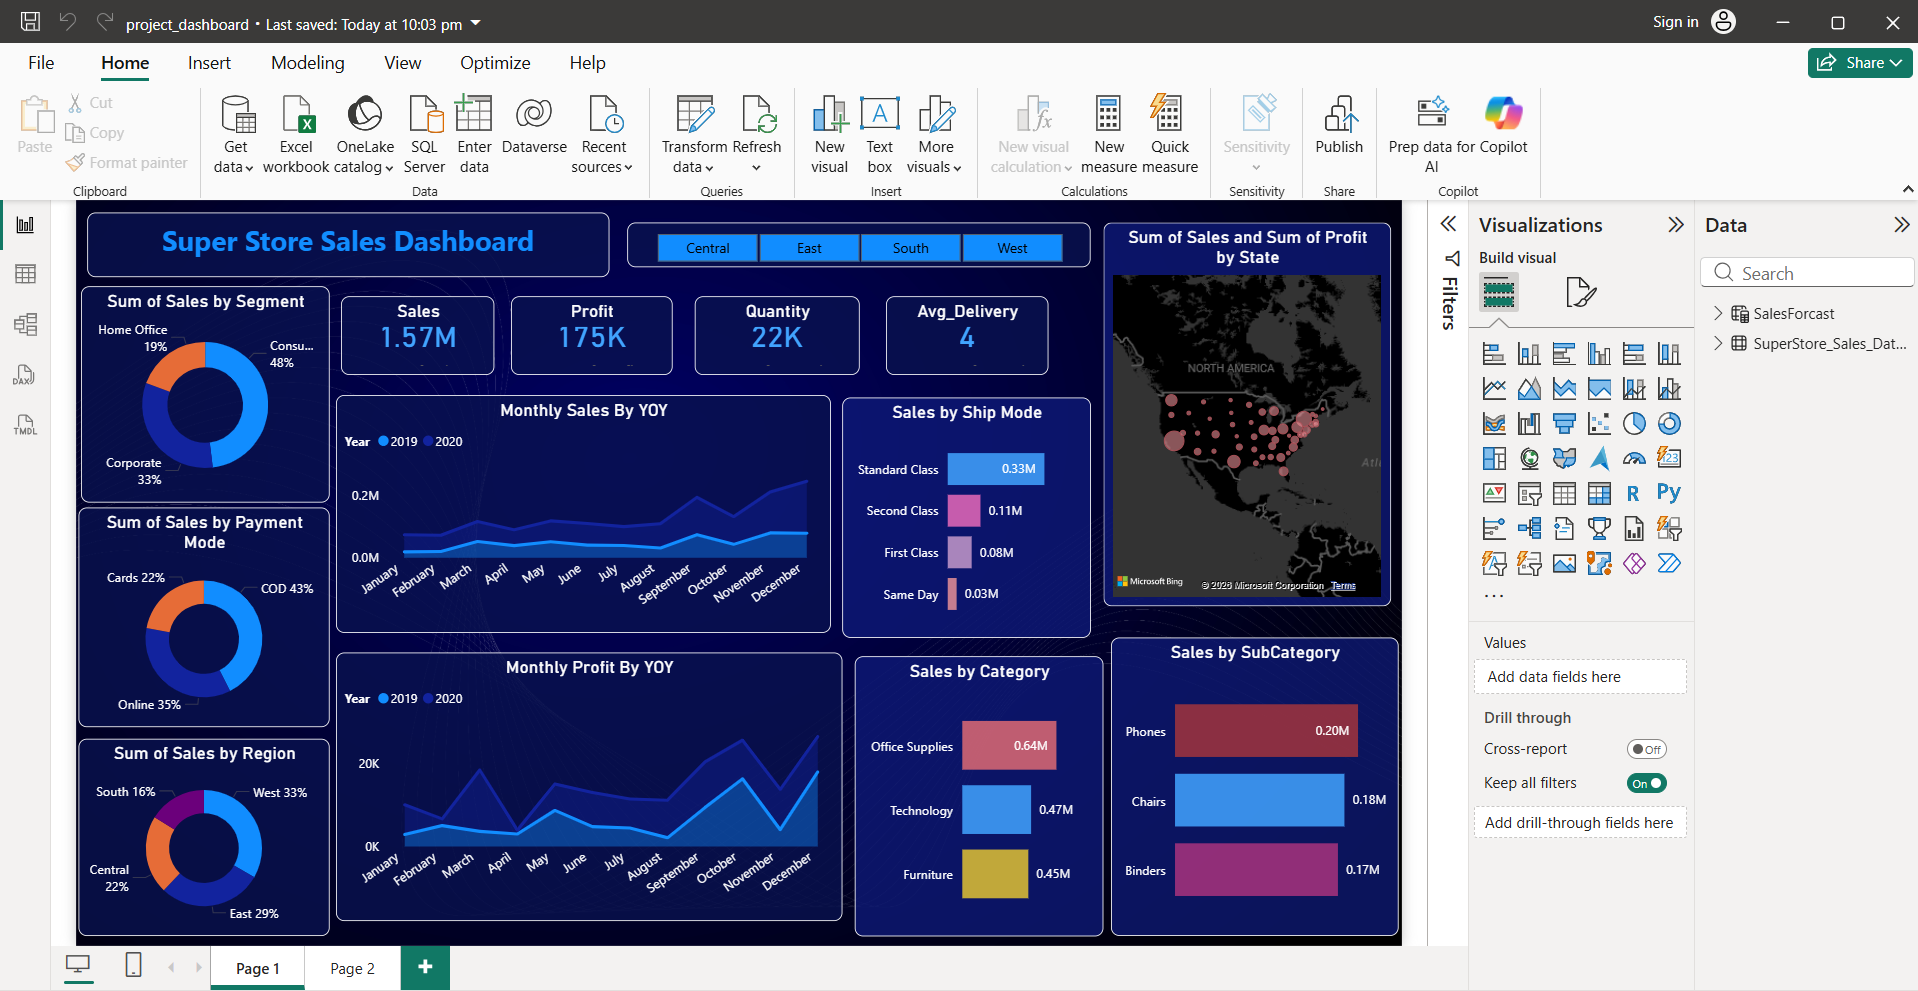

The dashboard page shown, as its layout file describes it:
{"tool":"powerbi","page":{"name":"Page 1","canvas":[1280,720],"ordinal":0},"visuals":[{"type":"clusteredBarChart","title":"Sales by Category","fields":{"Category":["SuperStore_Sales_Dataset.Category"],"Y":["Sum(SuperStore_Sales_Dataset.Sales)"]},"box":[751.6,440.4,240.1,270.2],"z":0},{"type":"clusteredBarChart","title":"Sales by SubCategory","fields":{"Category":["SuperStore_Sales_Dataset.Sub-Category"],"Y":["Sum(SuperStore_Sales_Dataset.Sales)"]},"box":[998.9,422.3,277.5,288.3],"z":1000},{"type":"clusteredBarChart","title":"Sales by Ship Mode","fields":{"Category":["SuperStore_Sales_Dataset.Ship Mode"],"Y":["Sum(SuperStore_Sales_Dataset.Sales)"]},"box":[739.5,190.6,240.1,231.6],"z":2000},{"type":"stackedAreaChart","title":"Monthly Sales By YOY","fields":{"Y":["Sum(SuperStore_Sales_Dataset.Sales)"],"Category":["SuperStore_Sales_Dataset.Order Date.Variation.Date Hierarchy.Month","SuperStore_Sales_Dataset.Order Date.Variation.Date Hierarchy.Day"],"Series":["SuperStore_Sales_Dataset.Order Date.Variation.Date Hierarchy.Year"]},"box":[250.9,188.2,477.8,229.2],"z":3000},{"type":"stackedAreaChart","title":"Monthly Profit By YOY","fields":{"Category":["SuperStore_Sales_Dataset.Order Date.Variation.Date Hierarchy.Month","SuperStore_Sales_Dataset.Order Date.Variation.Date Hierarchy.Day"],"Series":["SuperStore_Sales_Dataset.Order Date.Variation.Date Hierarchy.Year"],"Y":["Sum(SuperStore_Sales_Dataset.Profit)"]},"box":[250.9,436.7,488.6,259.4],"z":4000},{"type":"map","fields":{"Category":["SuperStore_Sales_Dataset.State"],"Size":["Sum(SuperStore_Sales_Dataset.Sales)"]},"box":[991.7,21.7,277.5,370.4],"z":5000},{"type":"donutChart","fields":{"Category":["SuperStore_Sales_Dataset.Segment"],"Y":["Sum(SuperStore_Sales_Dataset.Sales)"]},"box":[4.8,83.2,240.1,208.7],"z":6000},{"type":"slicer","fields":{"Values":["SuperStore_Sales_Dataset.Region"]},"box":[532,21.7,447.6,43.4],"z":7000},{"type":"textbox","box":[11.2,12.5,503.8,62.5],"z":8000},{"type":"donutChart","fields":{"Category":["SuperStore_Sales_Dataset.Payment Mode"],"Y":["Sum(SuperStore_Sales_Dataset.Sales)"]},"box":[2.4,296.8,242.5,212.3],"z":9000},{"type":"donutChart","fields":{"Y":["Sum(SuperStore_Sales_Dataset.Sales)"],"Category":["SuperStore_Sales_Dataset.Region"]},"box":[2.4,520,242.5,190.6],"z":10000},{"type":"card","title":"Sales","fields":{"Values":["Sum(SuperStore_Sales_Dataset.Sales)"]},"box":[255.8,92.9,148.4,76],"z":11000},{"type":"card","title":"Profit","fields":{"Values":["Sum(SuperStore_Sales_Dataset.Profit)"]},"box":[419.8,92.9,155.6,76],"z":12000},{"type":"card","title":"Avg_Delivery","fields":{"Values":["Avg(SuperStore_Sales_Dataset.Avg_delivery)"]},"box":[781.8,92.9,156.8,76],"z":13000},{"type":"card","title":"Quantity","fields":{"Values":["Sum(SuperStore_Sales_Dataset.Quantity)"]},"box":[597.2,92.9,159.3,76],"z":14000}]}

Visuals, with their boxes on the page's 1280x720 design canvas (x1, y1, x2, y2). These are canvas units, not pixel positions in the 1918x991 screenshot, which may show the page scaled, cropped or inside an application window:
"Sales by Category" clusteredBarChart: 752,440,992,711
"Sales by SubCategory" clusteredBarChart: 999,422,1276,711
"Sales by Ship Mode" clusteredBarChart: 740,191,980,422
"Monthly Sales By YOY" stackedAreaChart: 251,188,729,417
"Monthly Profit By YOY" stackedAreaChart: 251,437,740,696
map - SuperStore_Sales_Dataset.State x Sum(SuperStore_Sales_Dataset.Sales): 992,22,1269,392
donutChart - SuperStore_Sales_Dataset.Segment x Sum(SuperStore_Sales_Dataset.Sales): 5,83,245,292
slicer - SuperStore_Sales_Dataset.Region: 532,22,980,65
textbox: 11,12,515,75
donutChart - SuperStore_Sales_Dataset.Payment Mode x Sum(SuperStore_Sales_Dataset.Sales): 2,297,245,509
donutChart - Sum(SuperStore_Sales_Dataset.Sales) x SuperStore_Sales_Dataset.Region: 2,520,245,711
"Sales" card: 256,93,404,169
"Profit" card: 420,93,575,169
"Avg_Delivery" card: 782,93,939,169
"Quantity" card: 597,93,756,169
